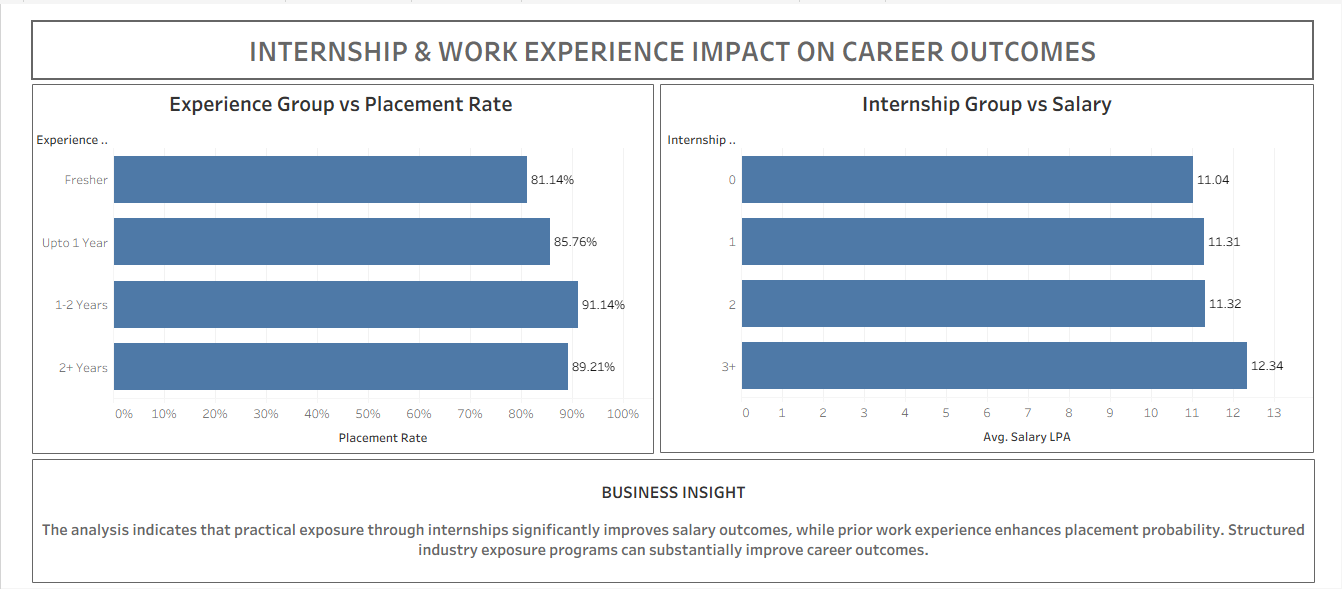

Layout of this report page (visuals, bound fields, positions):
{"tool":"tableau","page":{"name":"Internship & Experience Impact","canvas":[1000,1000],"units":"permille","ordinal":3},"visuals":[{"type":"text","box":[22.5,27.4,957.6,102.7]},{"type":"worksheet","title":"Experience Group vs Placement Rate ","mark":"Automatic","rows":["Calculation_0515163138342917"],"cols":["Calculation_0515163097227265"],"box":[23.4,137,464.1,633.6]},{"type":"worksheet","title":"Internship Group vs Salary","mark":"Automatic","rows":["Calculation_0515163135811588"],"cols":["Salary_LPA"],"box":[491.8,137,488.3,631.9]},{"type":"text","box":[23.4,779.1,957.6,212.3]}]}

Visuals, with their boxes on the dashboard's canvas, which has no fixed pixel size, in thousandths of its width and height (x1, y1, x2, y2). These are canvas units, not pixel positions in the 1342x589 screenshot, which may show the page scaled, cropped or inside an application window:
text: rect(22, 27, 980, 130)
"Experience Group vs Placement Rate " worksheet: rect(23, 137, 488, 771)
"Internship Group vs Salary" worksheet: rect(492, 137, 980, 769)
text: rect(23, 779, 981, 991)
